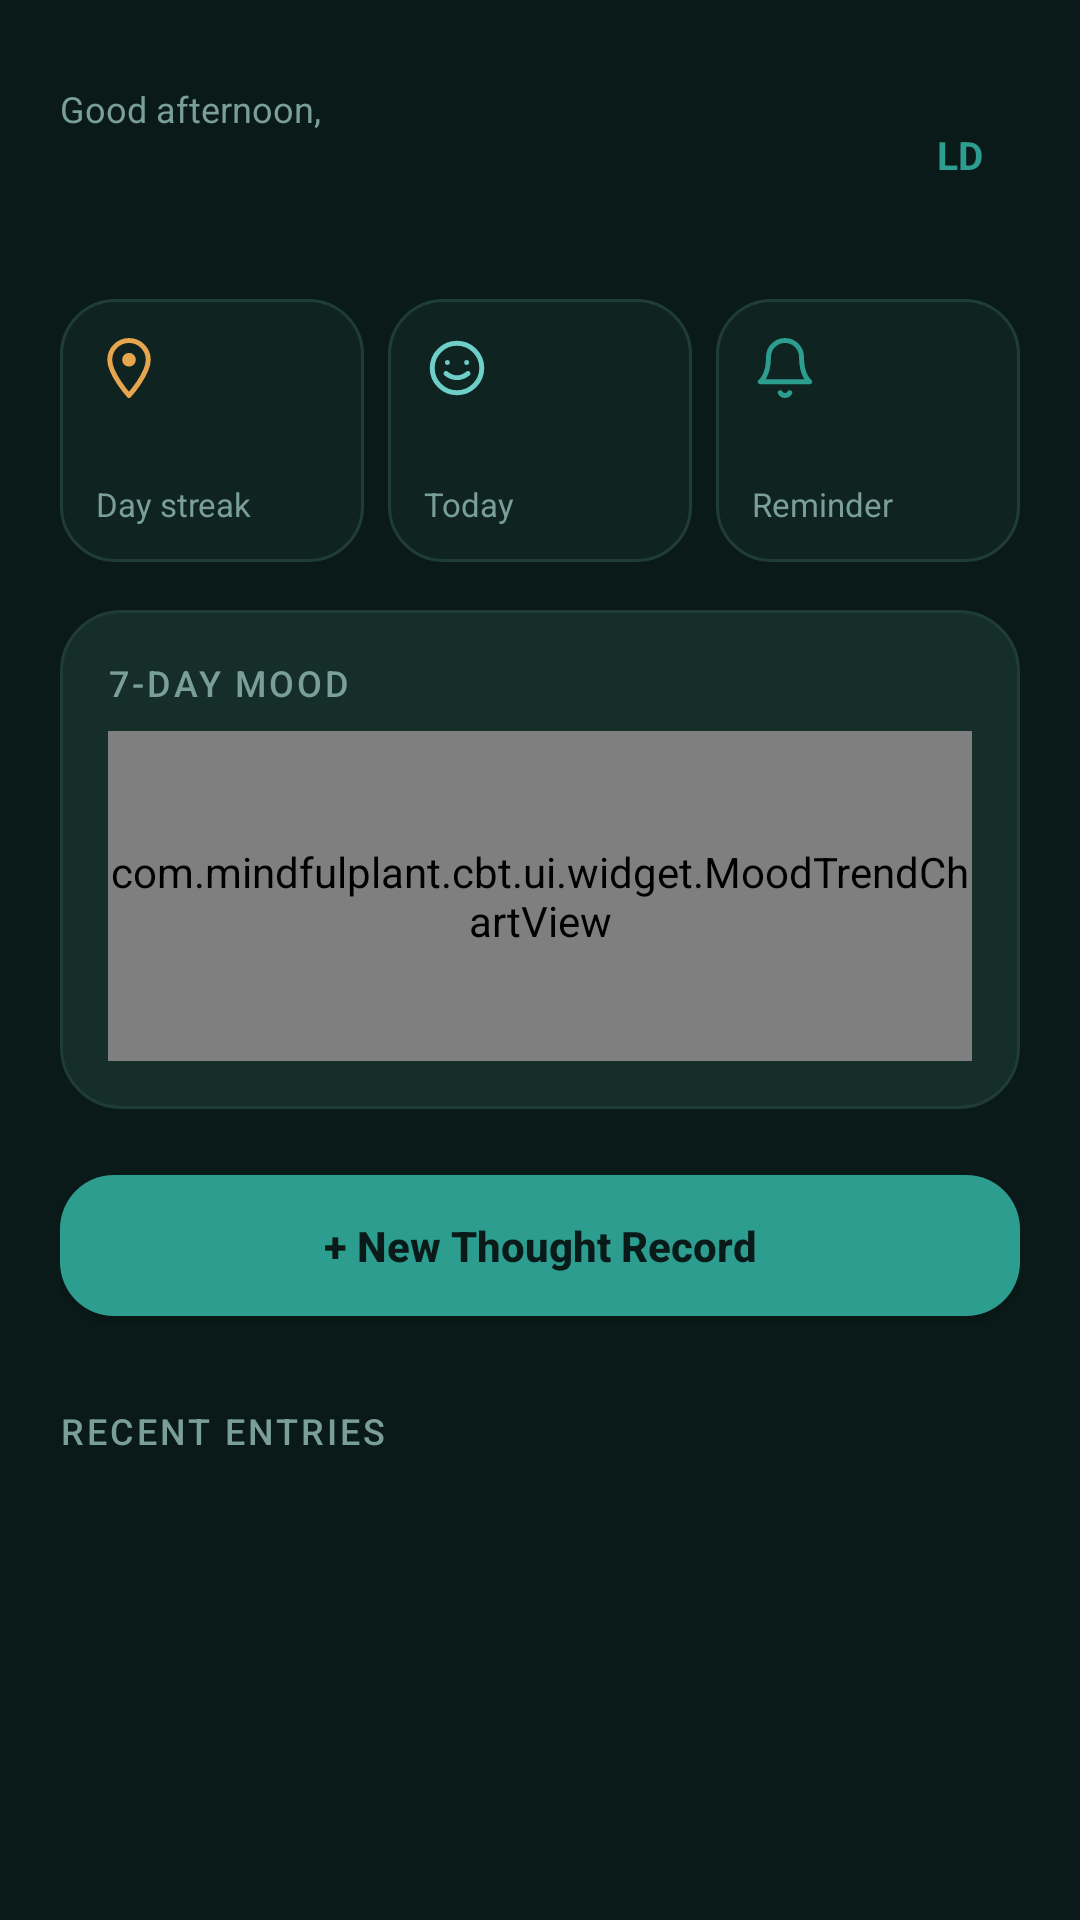

Icons on this 1080w x 1920h Android screen, each with the point to tap as [x,y]:
mood: [457,368]
